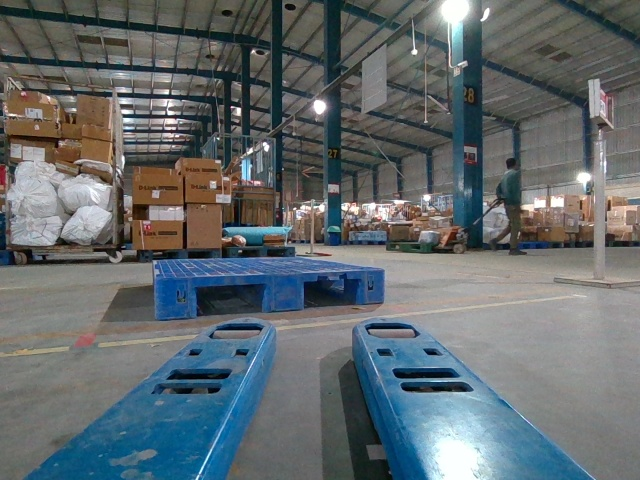pallet: (155, 268, 384, 319)
